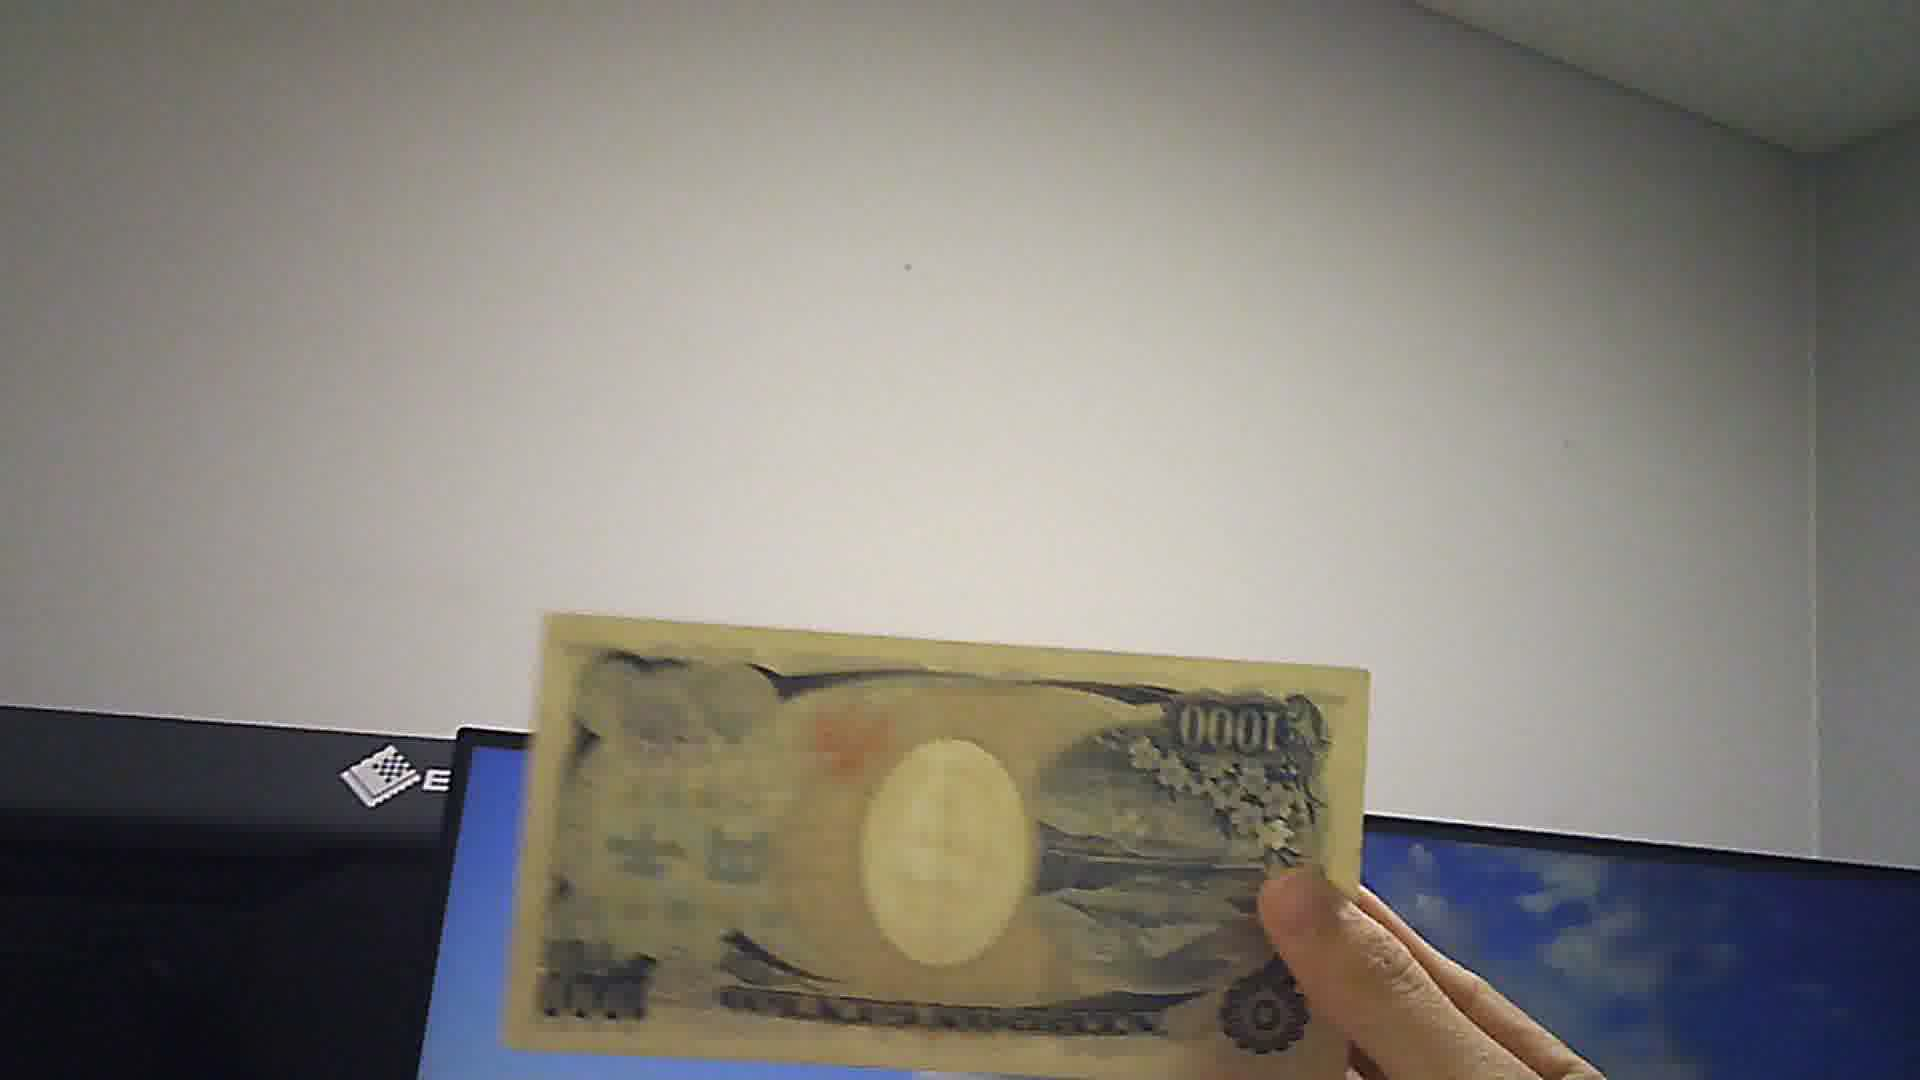1,000 Yen: (512, 589, 1374, 1076)
